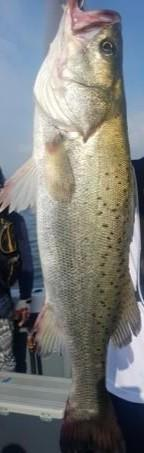fish: (0, 0, 141, 452)
